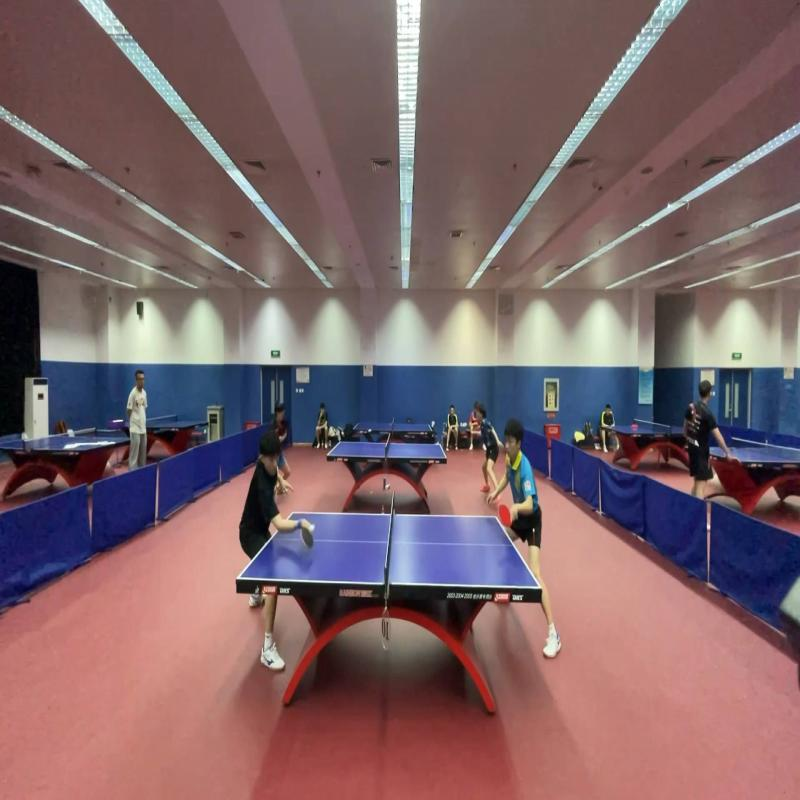bats: (298, 521, 318, 554)
